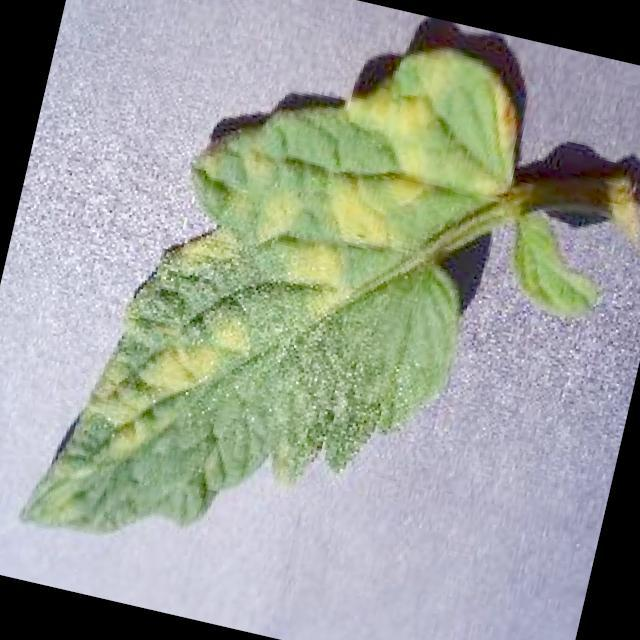Tomato mold leaf: (14, 0, 547, 618)
